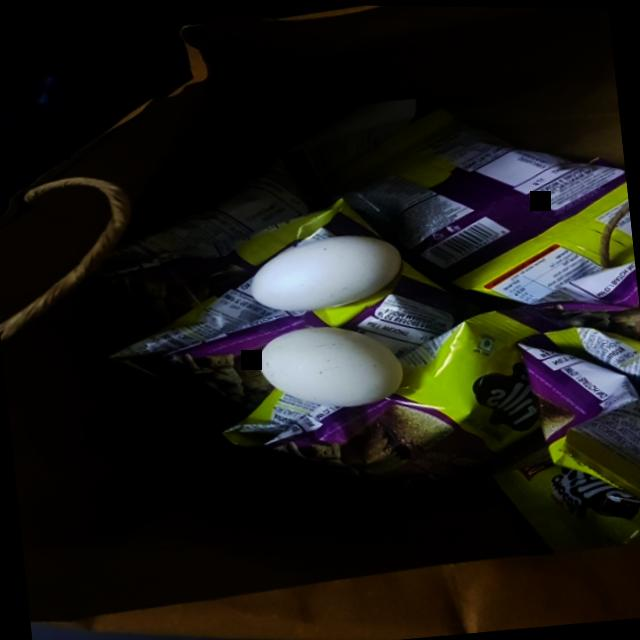eggs: (251, 313, 416, 413), (239, 222, 411, 317)
